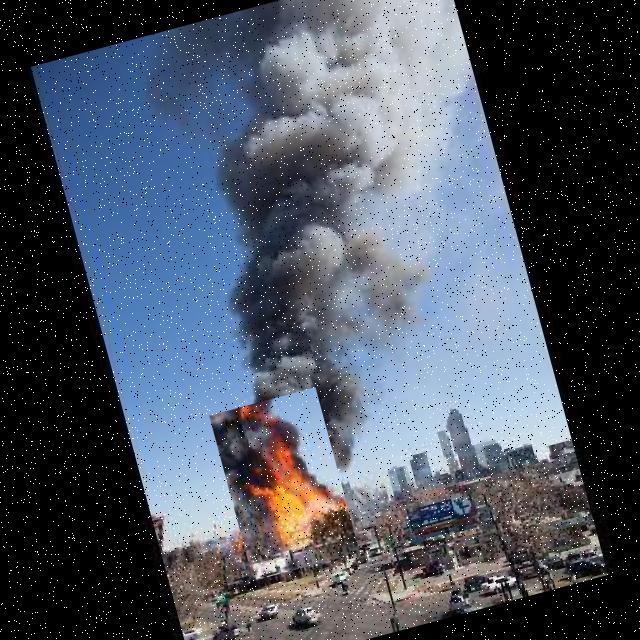fire: (208, 387, 359, 580)
